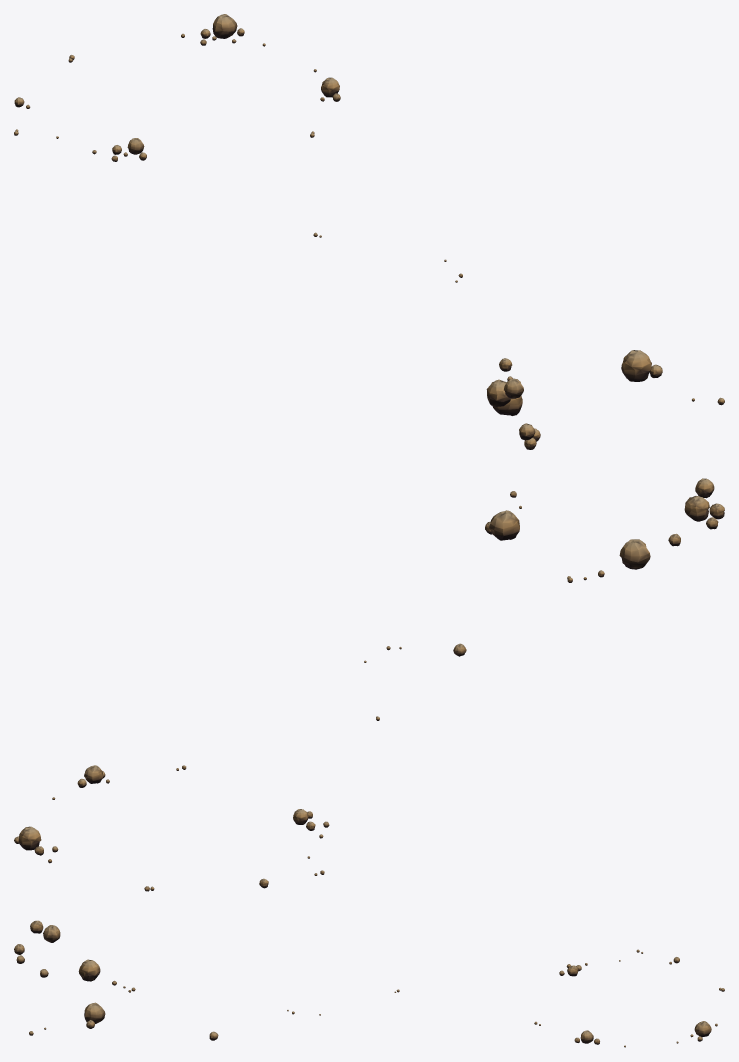
Rendered from level2BoulderWhole_grp 1.fbx.
The picture shows the model from 3 angles, top to bottom: view 1: azimuth 30°, elevation 25°; view 2: azimuth 150°, elevation 25°; view 3: azimuth 270°, elevation 25°; orthographic projection. The views are drawn at different scales.
Parts seen in each view (by area): view 1: boulder_15; view 2: boulder_15, boulder_08; view 3: boulder_08, boulder_15, boulder_09.
Part boxes in pixels (x1=…): boulder_15: x1=621, y1=350, x2=651, y2=381; boulder_15: x1=489, y1=510, x2=519, y2=540; boulder_08: x1=619, y1=539, x2=650, y2=569; boulder_08: x1=78, y1=959, x2=100, y2=981; boulder_15: x1=84, y1=1002, x2=105, y2=1023; boulder_09: x1=43, y1=925, x2=60, y2=942.
Bounding box in the file's own units: 926 × 356 × 2903.
